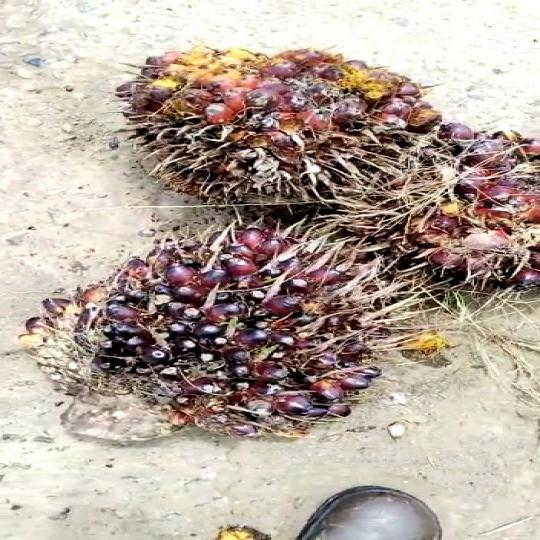masak: (24, 223, 424, 444), (112, 39, 456, 222)
